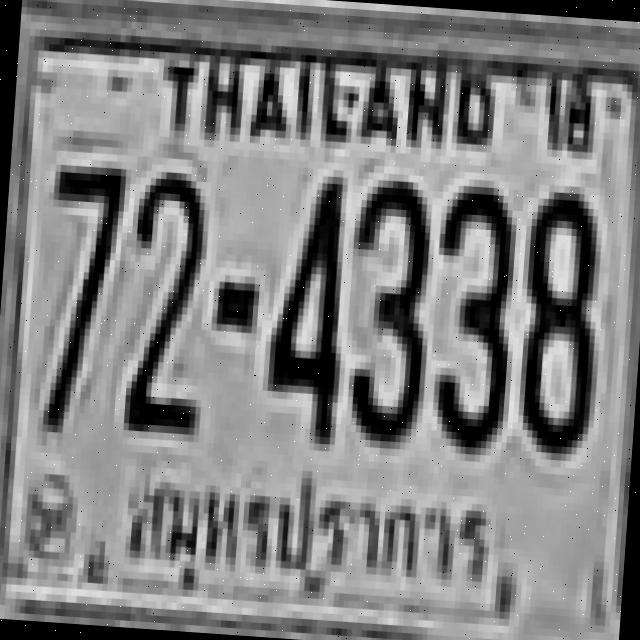2: (118, 167, 206, 430)
3: (339, 171, 434, 443), (425, 177, 519, 449)
4: (260, 165, 348, 438)
7: (35, 156, 124, 428), (37, 157, 124, 400), (42, 154, 125, 334)
8: (512, 184, 600, 448)
SamutPrakan: (116, 454, 506, 628)
